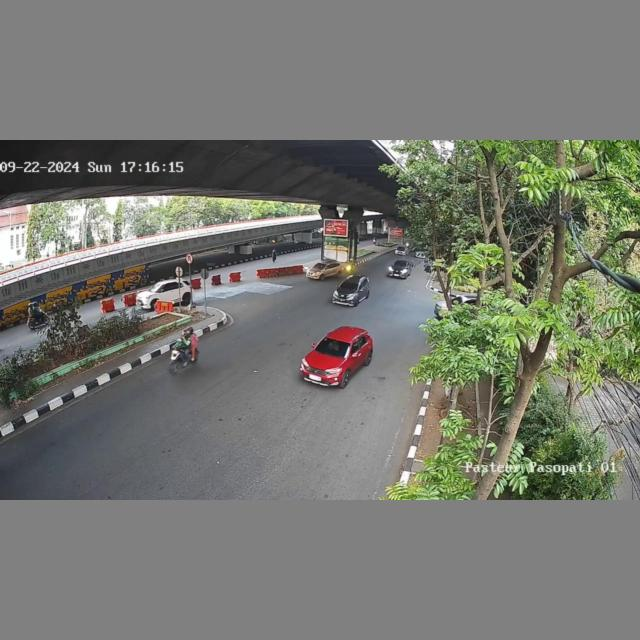windshield: (315, 337, 352, 359), (339, 280, 359, 289)
